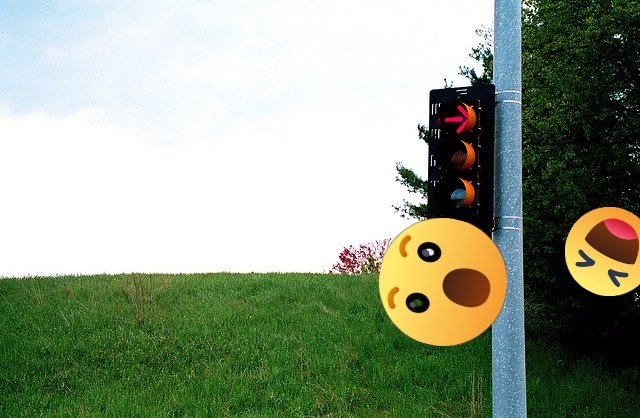haha: (565, 207, 640, 296)
wow: (379, 218, 507, 346)
